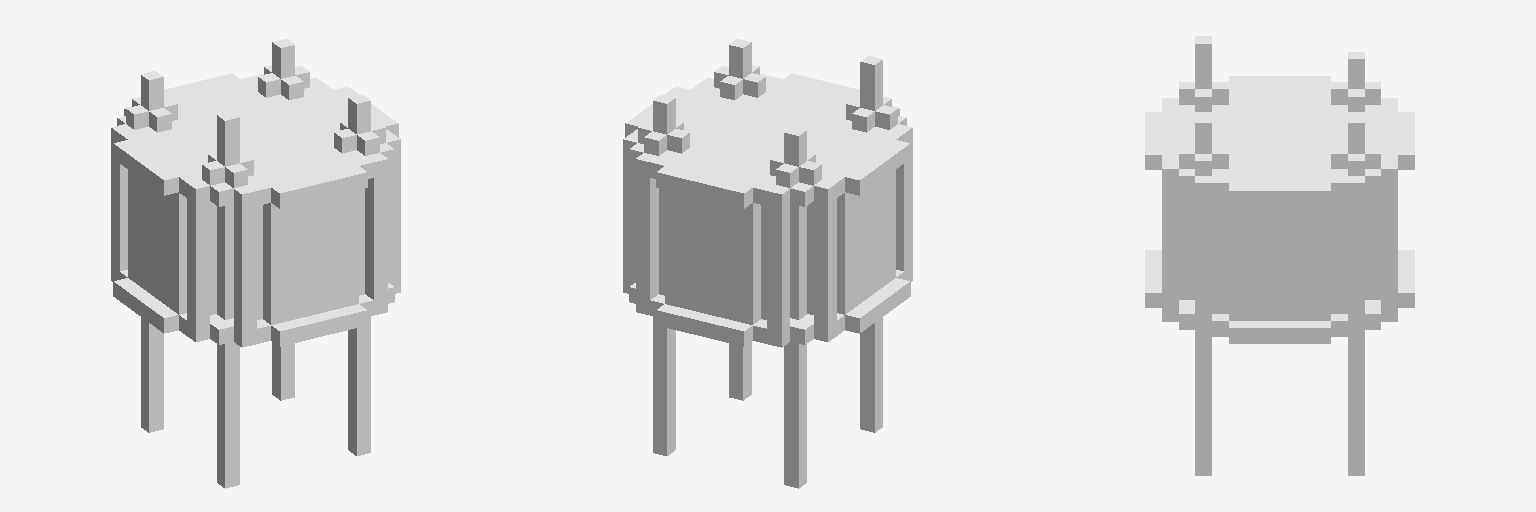
Rendered from plant_tomato_top.obj.
3 renders of one model, left to right at view 1: azimuth 30°, elevation 25°; view 2: azimuth 150°, elevation 25°; view 3: azimuth 270°, elevation 25°, orthographic.
Parts seen in each view (by area): view 1: object 1; view 2: object 1; view 3: object 1.
Boxes of the visible parts, box(x1,y1,x2,y2) form: object 1: box(111, 39, 400, 488); object 1: box(623, 39, 912, 488); object 1: box(1145, 36, 1414, 475).
Bounding box in the file's own units: 1.6 × 2.4 × 1.6.